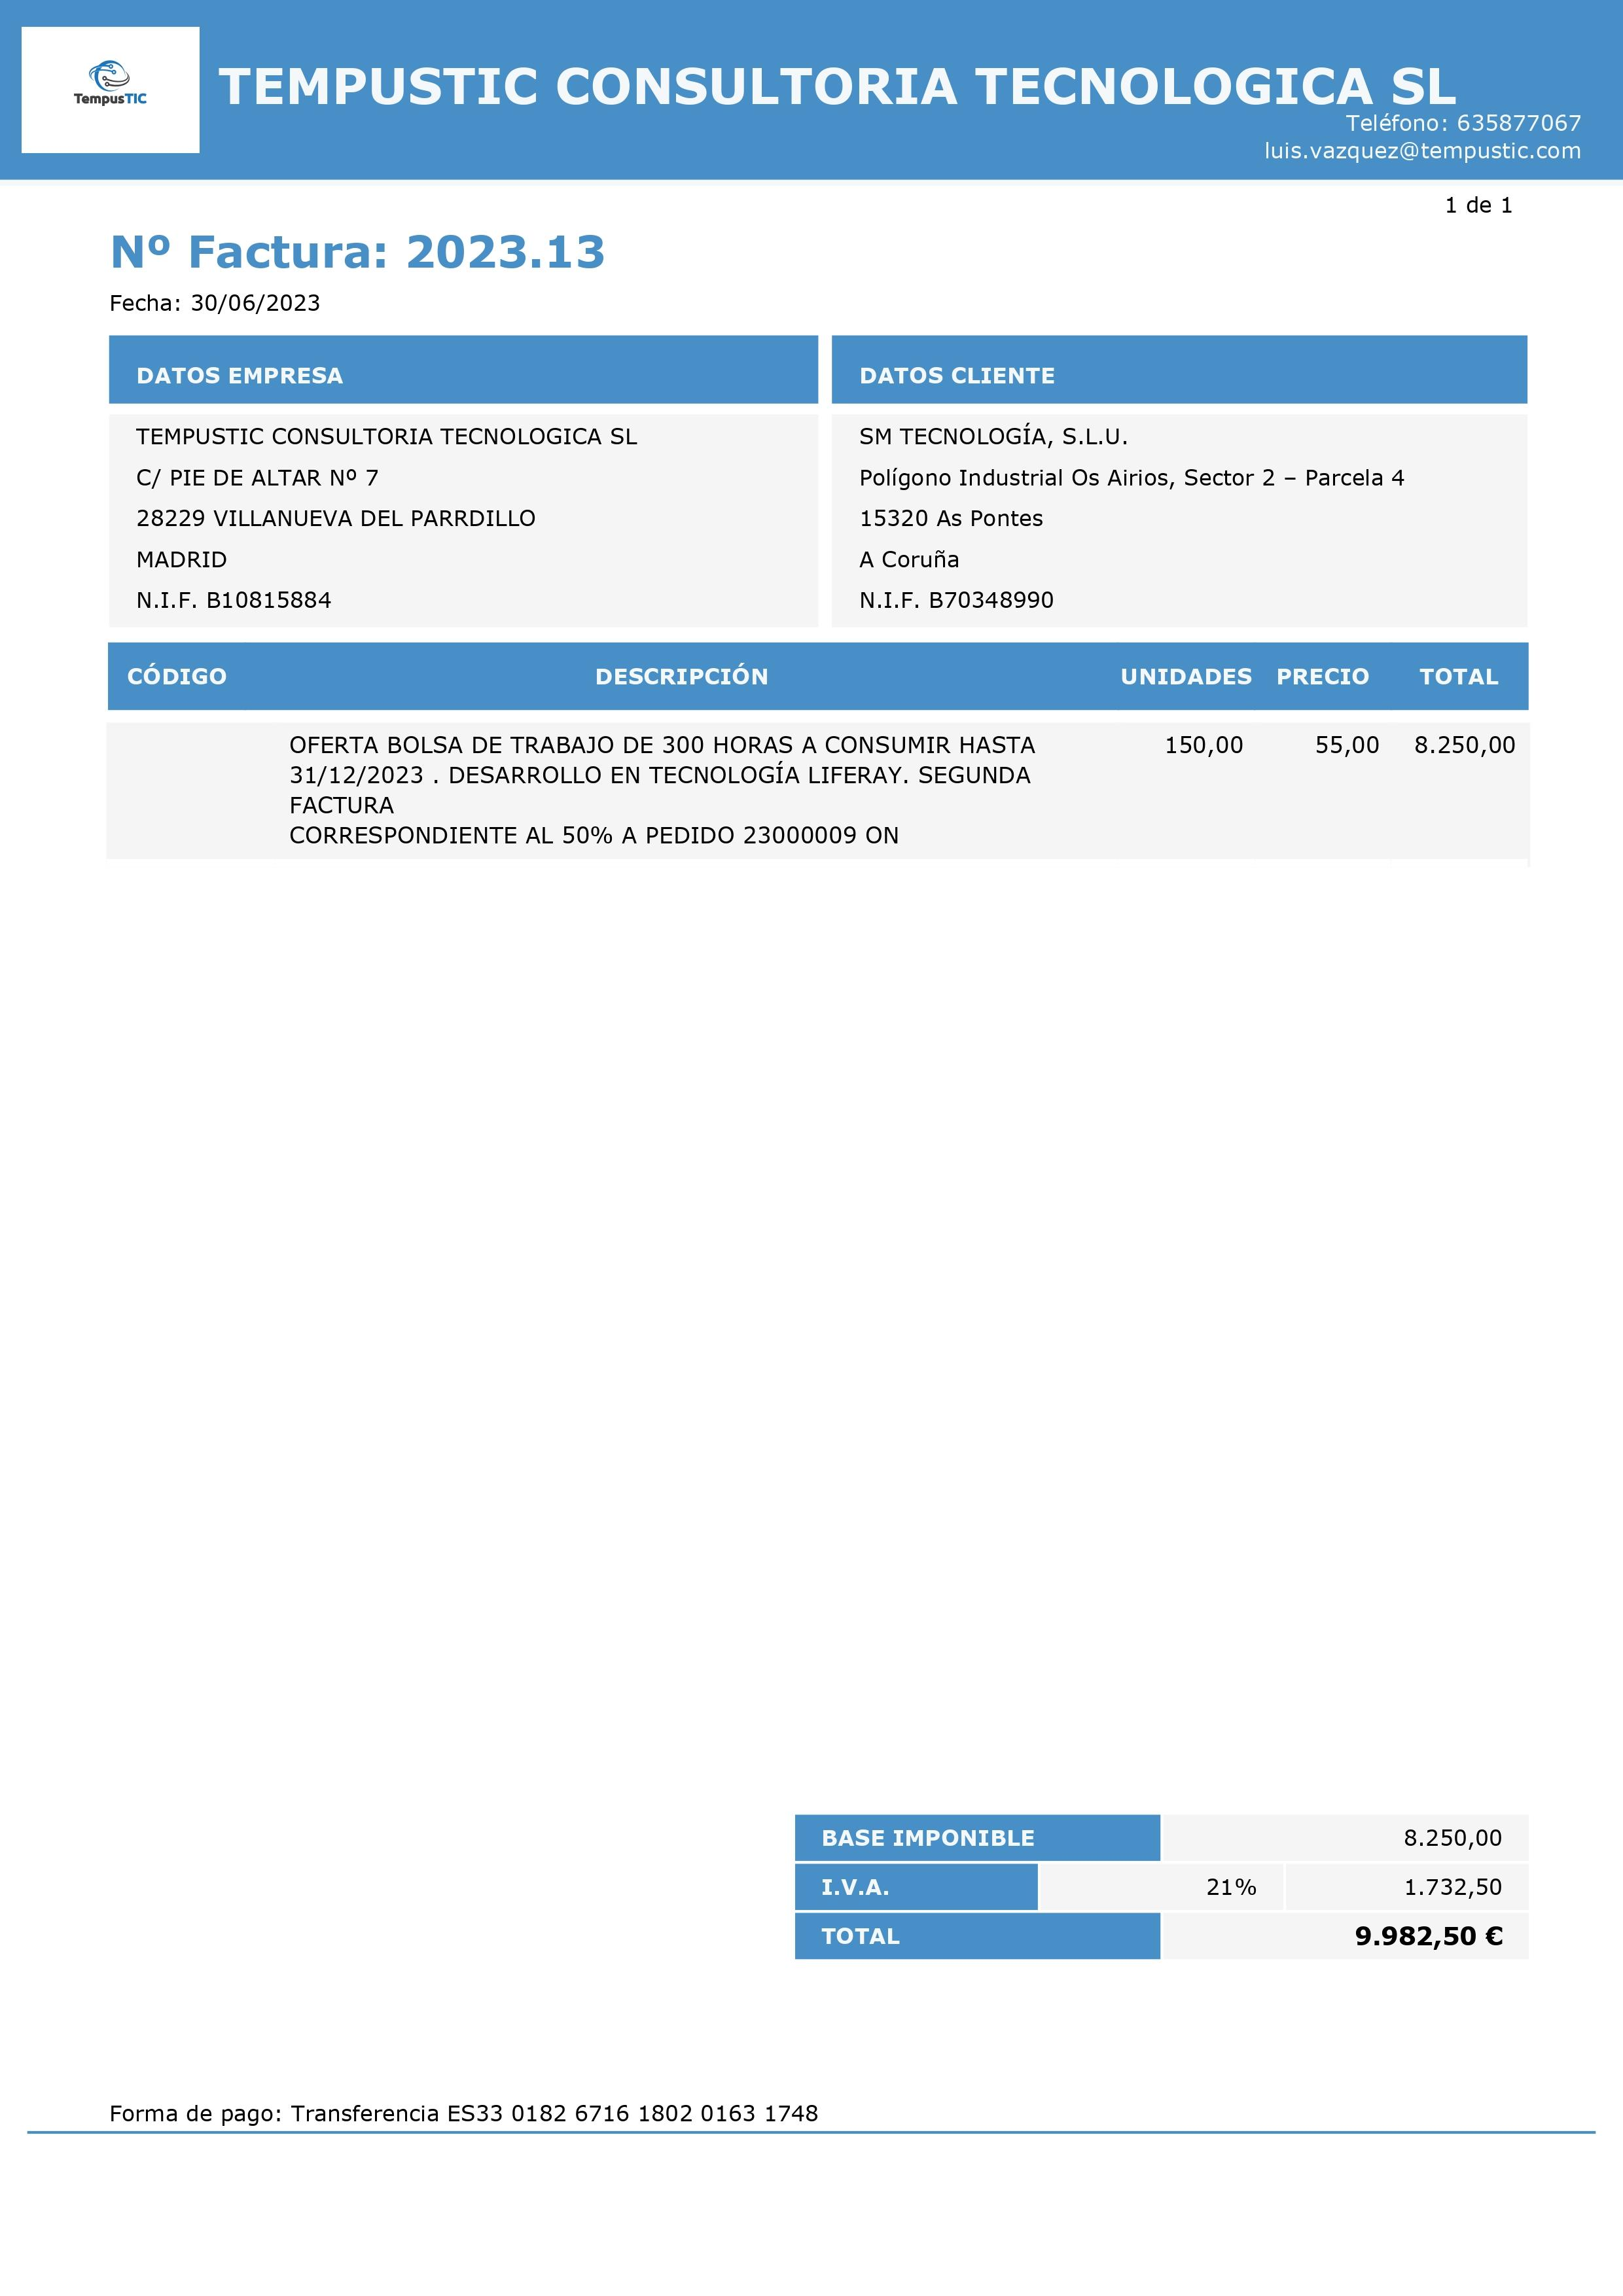ROI: (111, 641, 1527, 865), (109, 335, 817, 631), (834, 334, 1519, 619), (794, 1810, 1533, 1959), (209, 31, 1466, 112), (104, 228, 622, 320), (98, 2080, 849, 2133), (1254, 108, 1592, 168)
